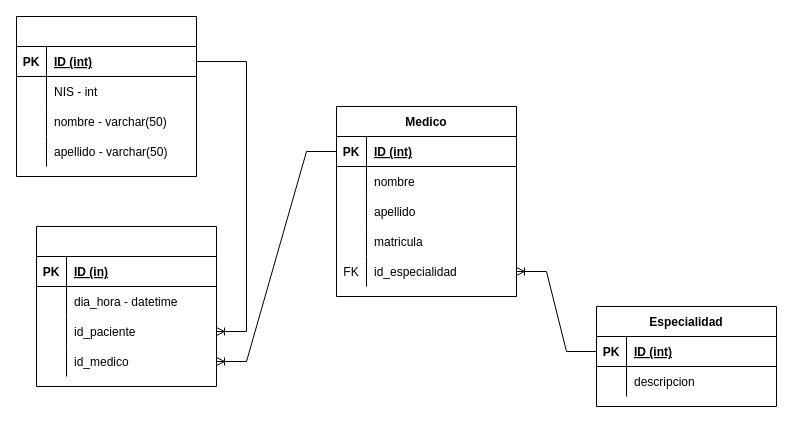
Some shapes in this 793 by 423 pixel diagram are drawn without their labels. The box of each missing label's shape, as (x1, y1, x2, y2) in pixels:
Paciente: (16, 16, 196, 176)
Turno/Cita: (36, 226, 216, 386)
